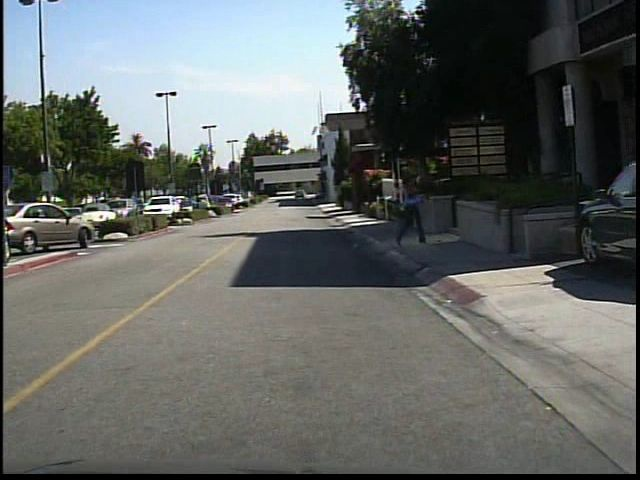person: (394, 168, 428, 251)
